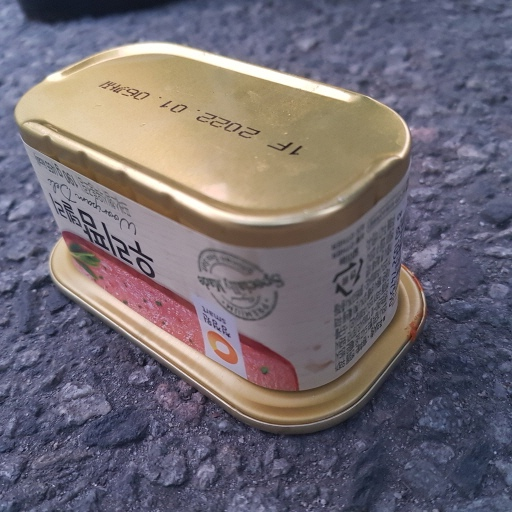Metal_2: (8, 39, 428, 430)
